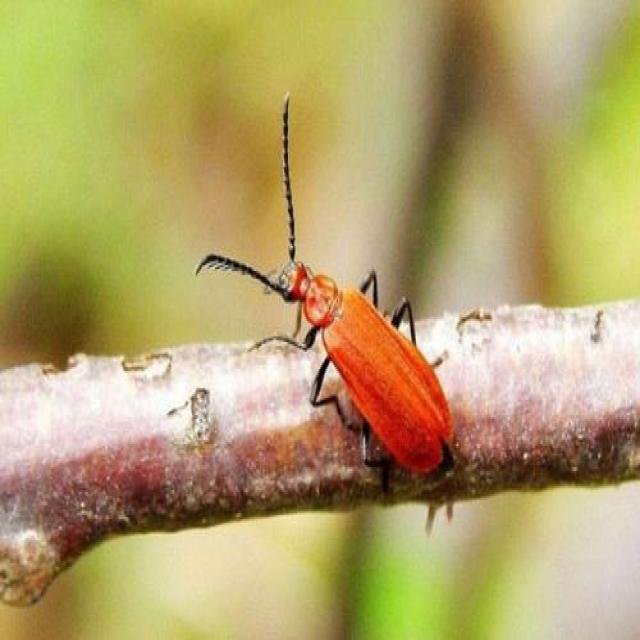BlisterBeetle-Adult-: (193, 83, 465, 487)
